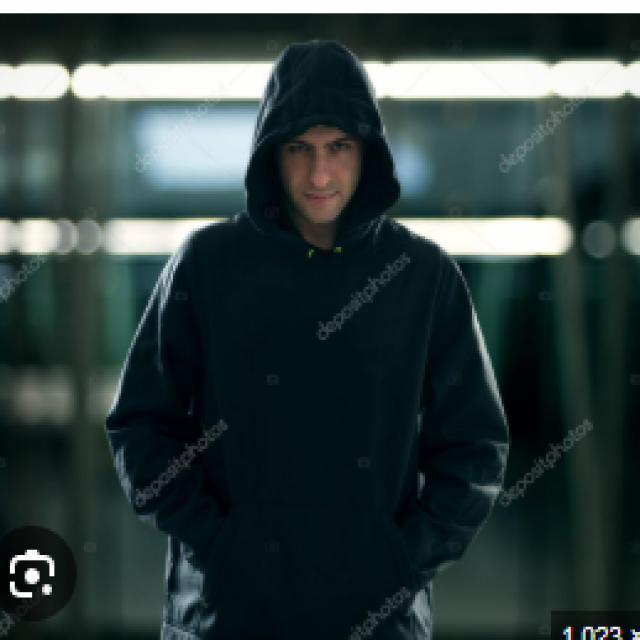4_capucha: (241, 38, 405, 257)
